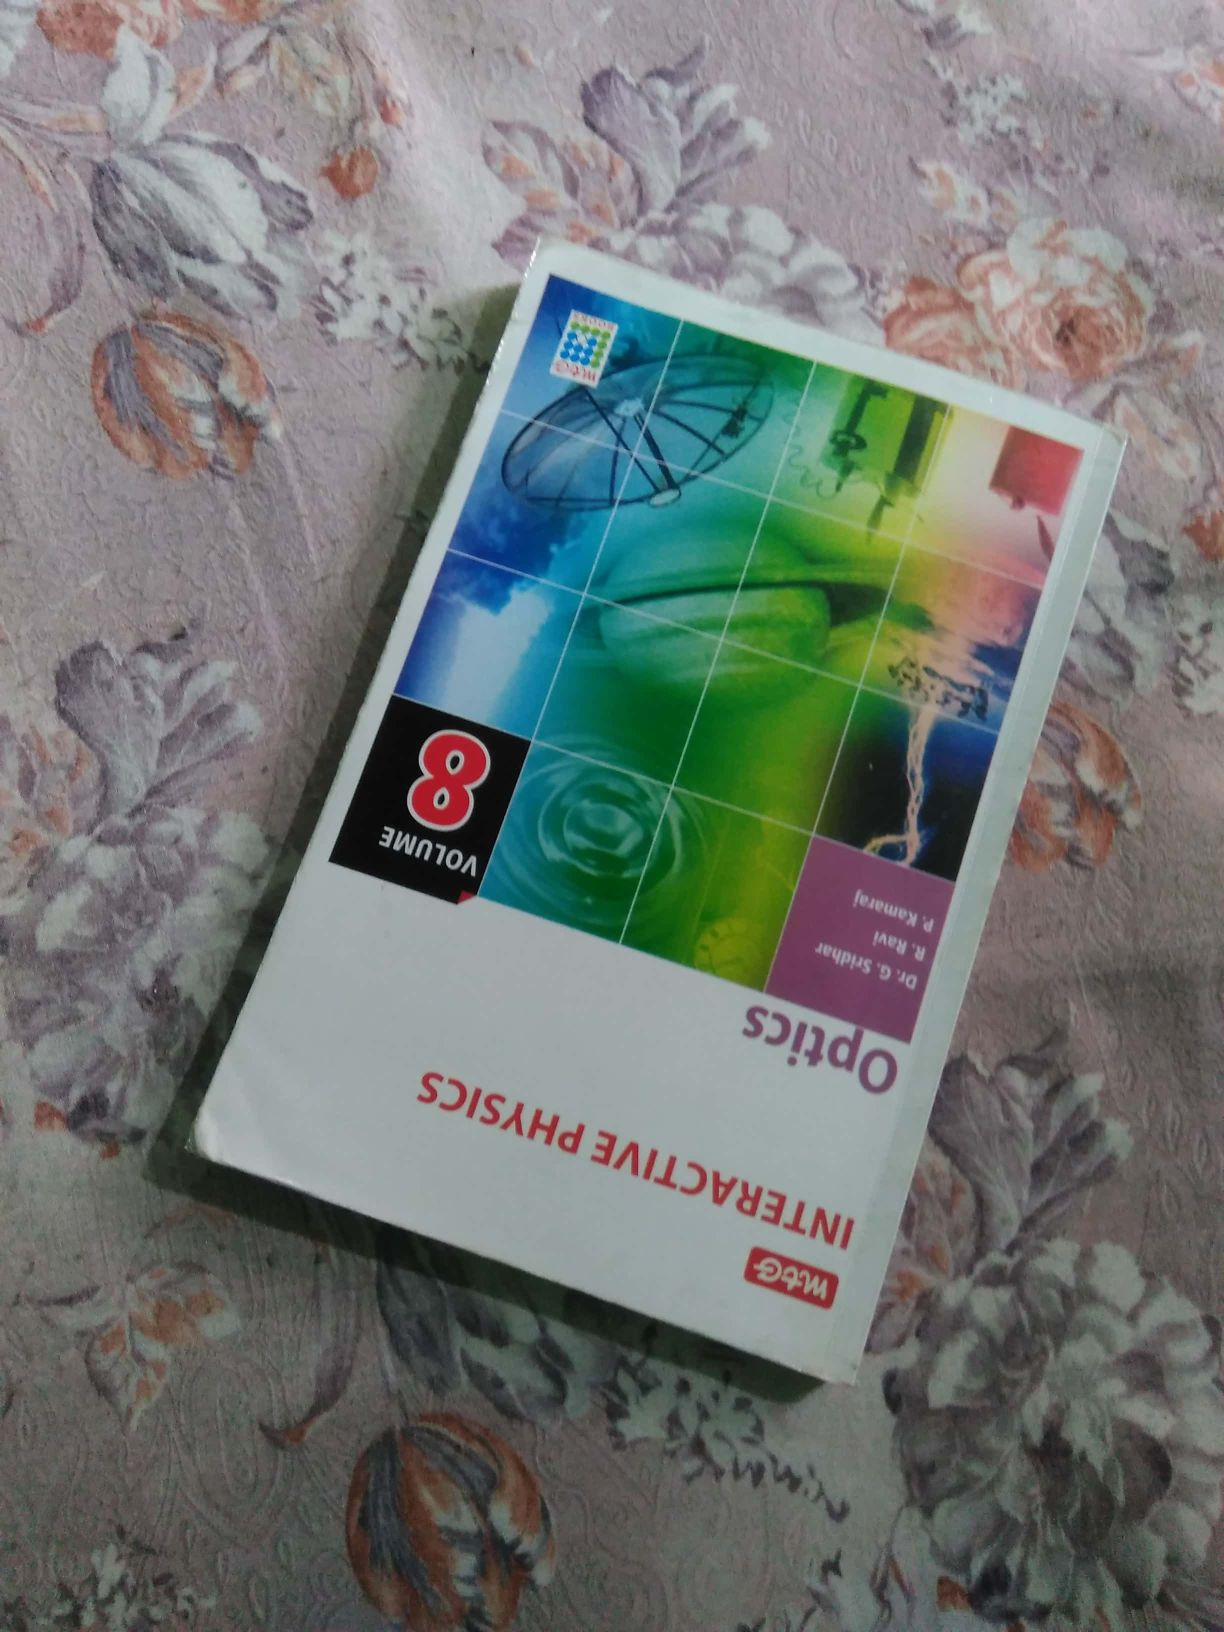optics: (234, 251, 1014, 1324)
